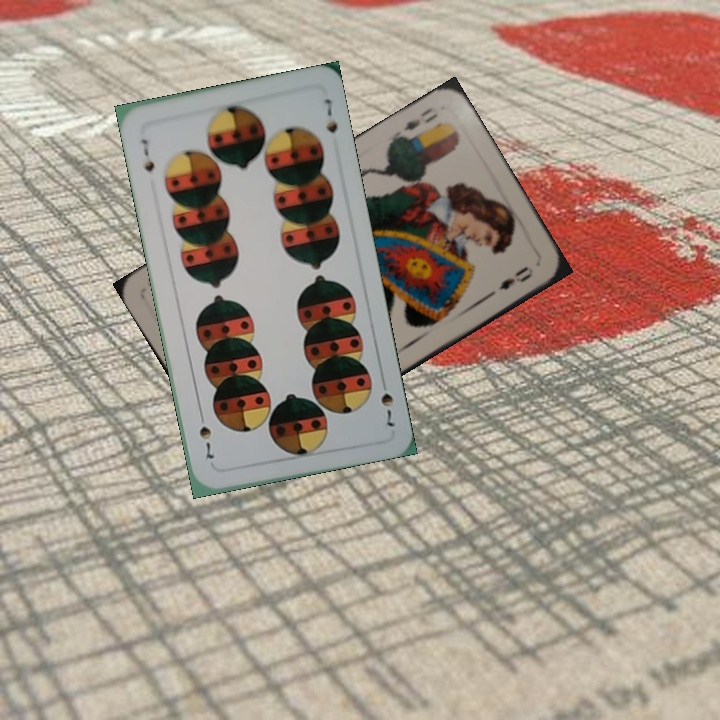EO: (400, 103, 441, 134)
S7: (376, 373, 397, 430), (136, 135, 157, 175)
